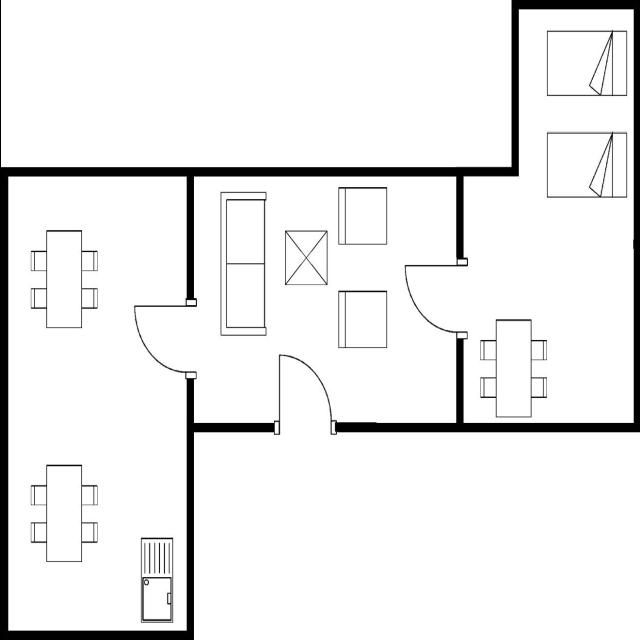bed: (540, 26, 630, 102), (542, 128, 630, 202)
coffee_table: (280, 226, 330, 290)
dining_table: (476, 310, 550, 426), (25, 458, 102, 566), (26, 225, 101, 333)
large_sofa: (212, 182, 270, 344)
sink: (136, 531, 178, 625)
small_sofa: (332, 286, 390, 352), (334, 182, 390, 248)
